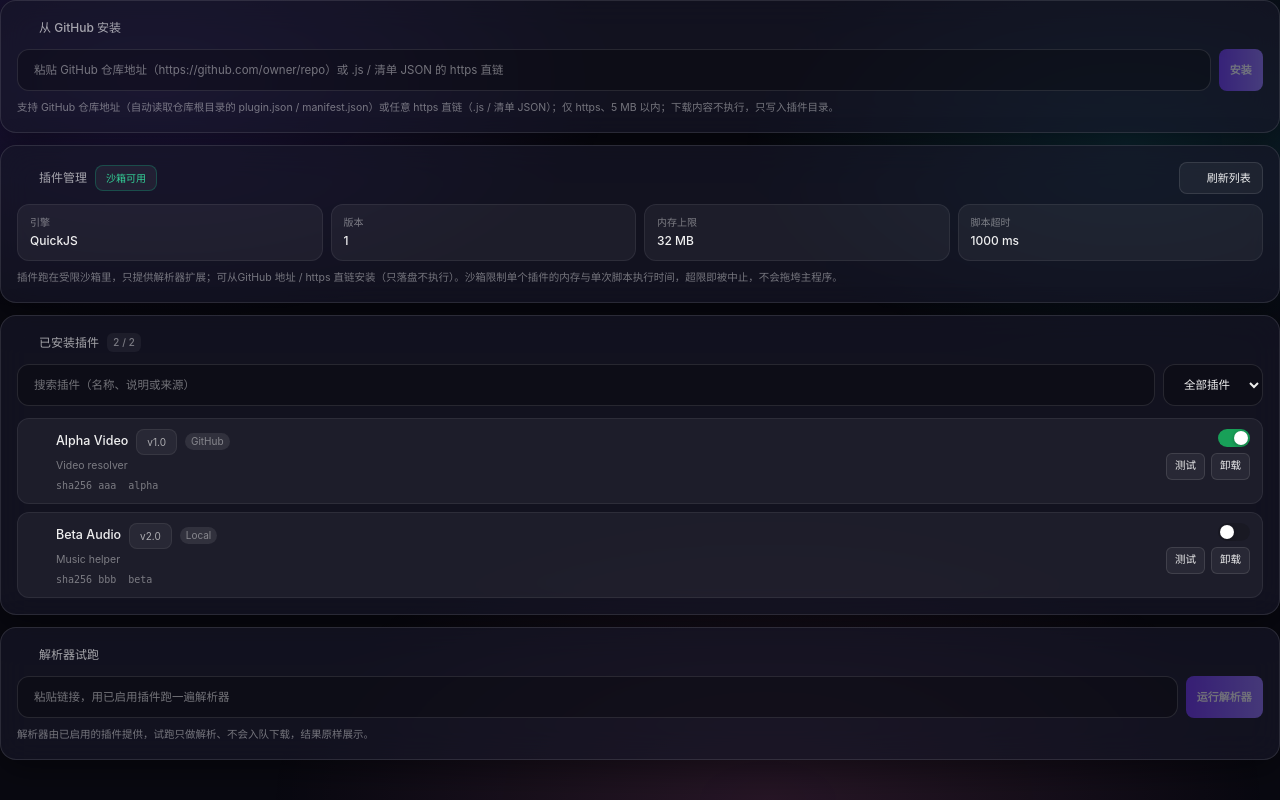
Plugin manager › removes a successfully uninstalled plugin even if reloading the list fails
The width and height of the screenshot is (1280, 800).
Step 1. Click the button "卸载" in the row of "Video resolver" → [1230, 466], box [1211,453,1250,480]
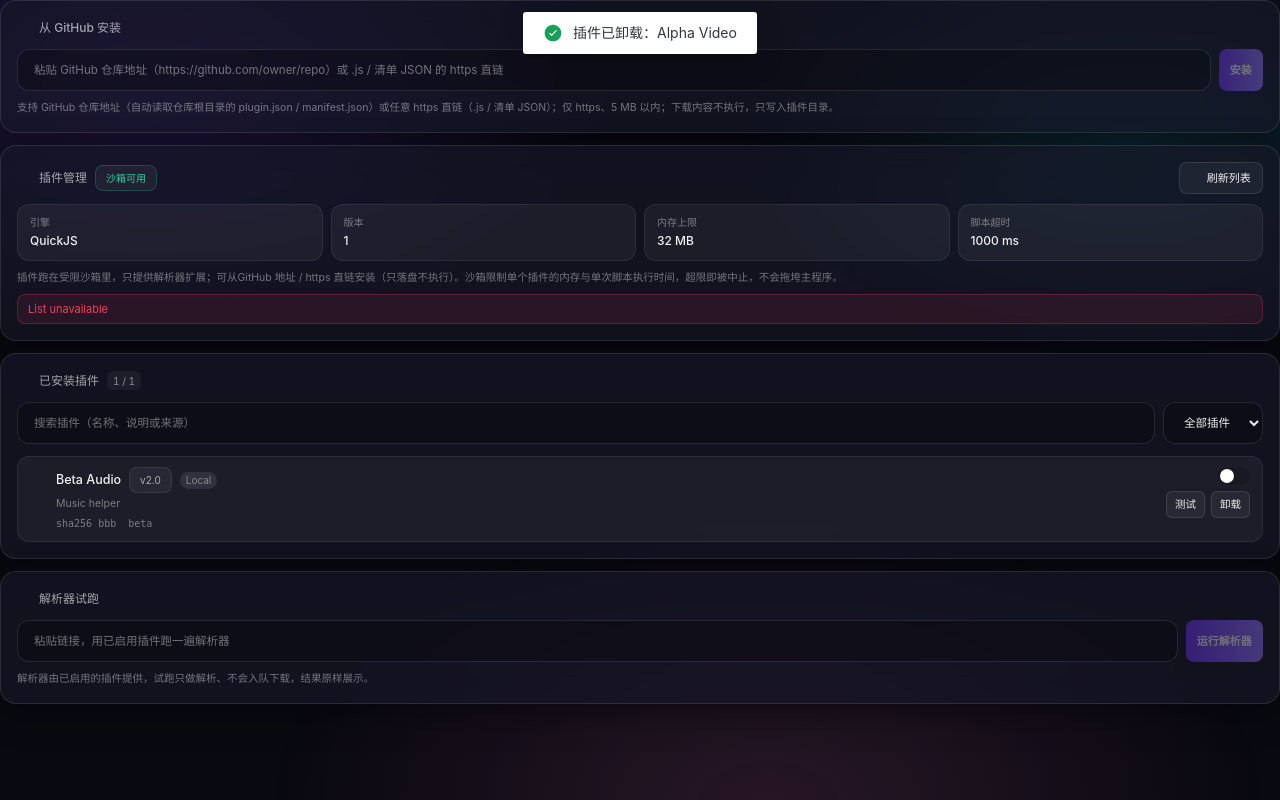
Expected: the element with class "umi-inner" that starts with "Beta Audio" is shown, [17,456,1263,542]
Now the text "List unavailable" is shown, box [17,294,1263,324]
